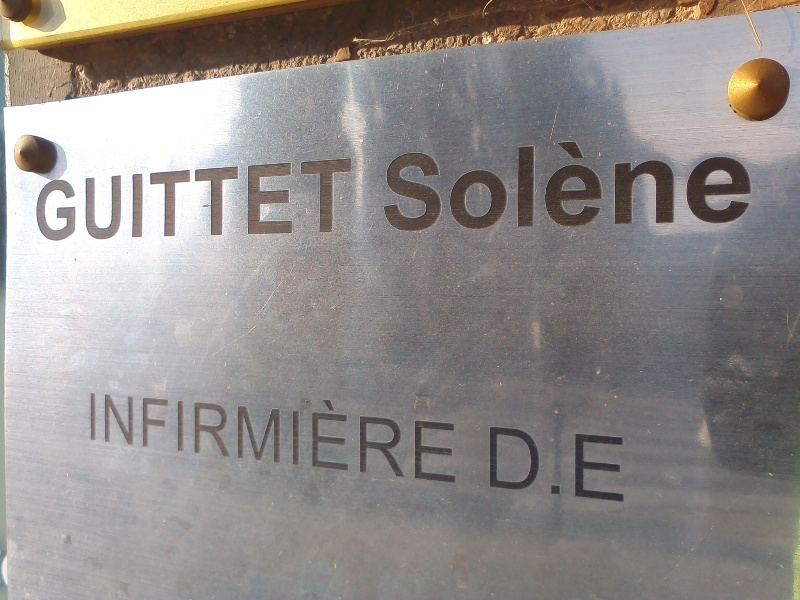text: (81, 375, 96, 488), (97, 375, 112, 488), (113, 375, 128, 488), (129, 375, 144, 488), (145, 375, 160, 488), (161, 375, 176, 488), (177, 375, 192, 488), (193, 375, 208, 488), (209, 375, 224, 488), (225, 375, 240, 488), (241, 375, 256, 488), (257, 375, 272, 488), (273, 375, 288, 488), (289, 375, 304, 488), (305, 375, 320, 488), (321, 375, 336, 488), (337, 375, 352, 488), (353, 375, 368, 488), (369, 375, 384, 488), (385, 375, 400, 488), (401, 375, 416, 488), (417, 375, 432, 488), (433, 375, 448, 488), (385, 132, 400, 240), (401, 132, 416, 240), (417, 132, 432, 240), (433, 132, 448, 240), (449, 132, 464, 240), (465, 132, 480, 240), (481, 132, 496, 240), (497, 132, 512, 240), (513, 132, 528, 240), (529, 132, 544, 240), (545, 132, 560, 240), (561, 132, 576, 240), (577, 132, 592, 240), (593, 132, 608, 240), (609, 132, 624, 240), (625, 132, 640, 240), (641, 132, 656, 240), (657, 132, 672, 240), (673, 132, 688, 240), (689, 132, 704, 240), (705, 132, 720, 240), (721, 132, 736, 240), (737, 132, 752, 240), (449, 375, 462, 488), (49, 156, 64, 241), (65, 156, 80, 241), (81, 156, 96, 241), (97, 156, 112, 241), (113, 156, 128, 241), (129, 156, 144, 241), (145, 156, 160, 241), (161, 156, 176, 241), (177, 156, 192, 241), (193, 156, 208, 241), (209, 156, 224, 241), (225, 156, 240, 241), (241, 156, 256, 241), (257, 156, 272, 241), (273, 156, 288, 241), (289, 156, 304, 241), (305, 156, 320, 241), (321, 156, 336, 241), (337, 156, 352, 241), (497, 426, 512, 507), (513, 426, 528, 507), (529, 426, 544, 507), (545, 426, 560, 507), (561, 426, 576, 507), (577, 426, 592, 507), (593, 426, 608, 507), (609, 426, 624, 507), (36, 156, 48, 241), (488, 426, 496, 507), (753, 132, 758, 240), (353, 156, 359, 241), (382, 132, 384, 240), (625, 426, 627, 507)
